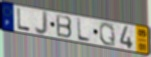4: (119, 25, 135, 51)
B: (55, 13, 74, 40)
J: (34, 10, 48, 36)
L: (76, 17, 91, 44), (16, 8, 31, 32)
Q: (98, 21, 116, 48)
